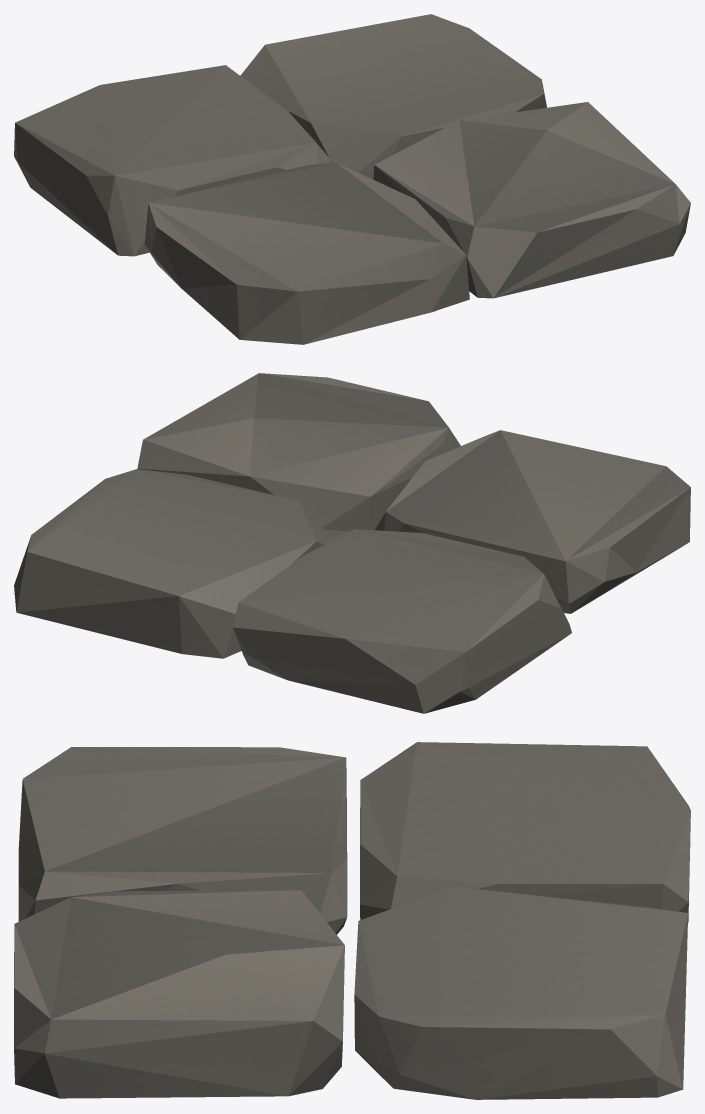
Rendered from Floor_Br_1.fbx.
3 views of the same model, one above another, from view 1: azimuth 30°, elevation 25°; view 2: azimuth 150°, elevation 25°; view 3: azimuth 270°, elevation 25° (orthographic). The views are drawn at different scales.
Visible parts, largest first — view 1: polySurface569; view 2: polySurface569; view 3: polySurface569.
Part boxes in pixels (x1=…): polySurface569: x1=14, y1=14, x2=690, y2=344; polySurface569: x1=14, y1=373, x2=690, y2=713; polySurface569: x1=14, y1=742, x2=690, y2=1099.
Size of the model in its own units: 204 by 33.93 by 206.
1 material, 1 textured.
